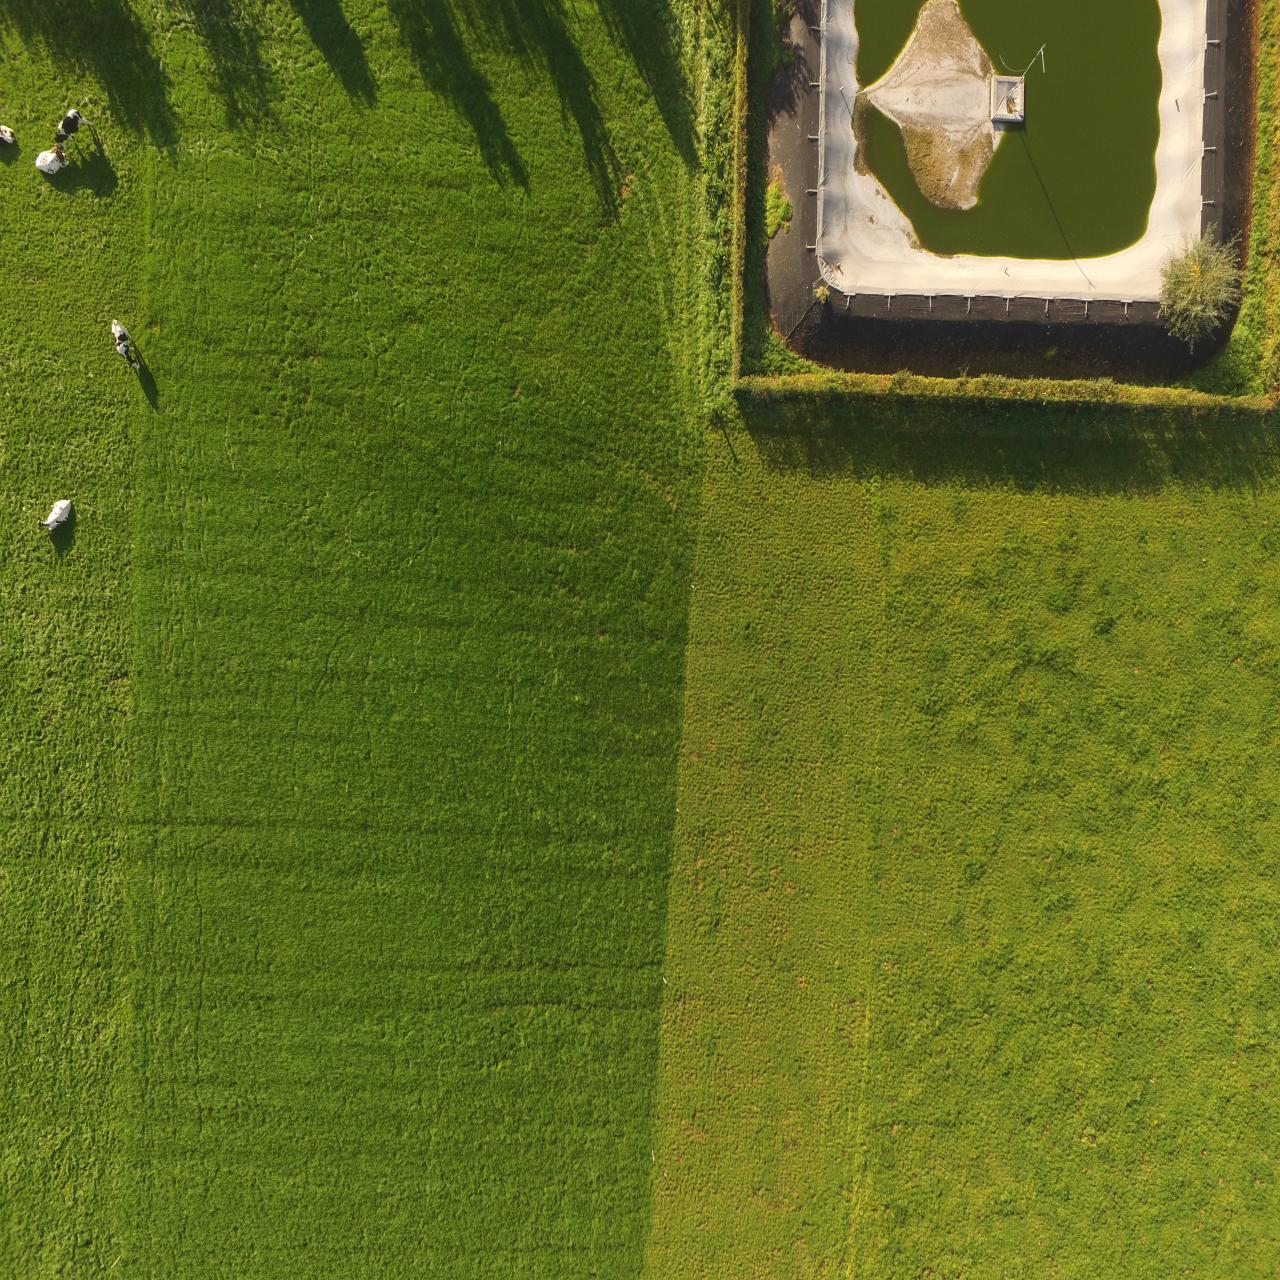cow: (54, 103, 98, 138), (111, 316, 139, 372), (39, 498, 73, 532), (30, 148, 72, 173)
